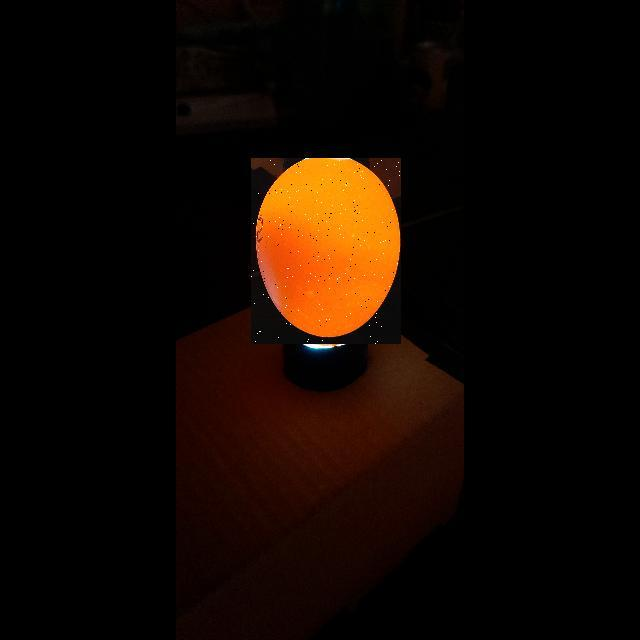Fertile: (251, 158, 401, 344)
